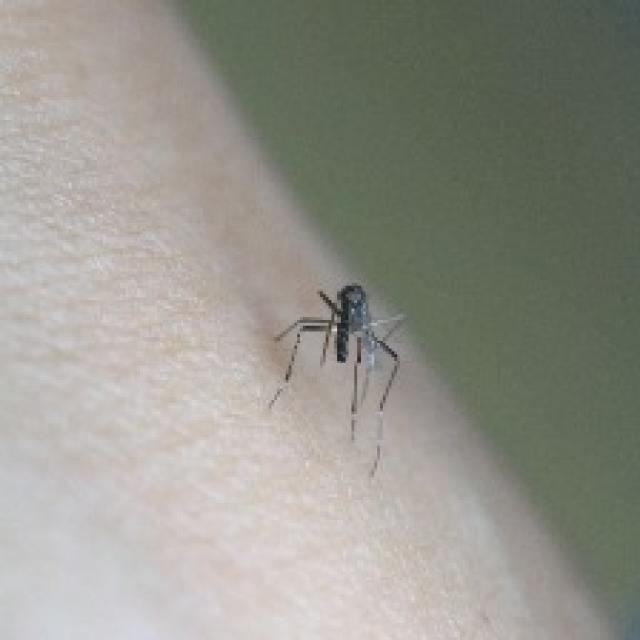aedes: (263, 280, 406, 477)
